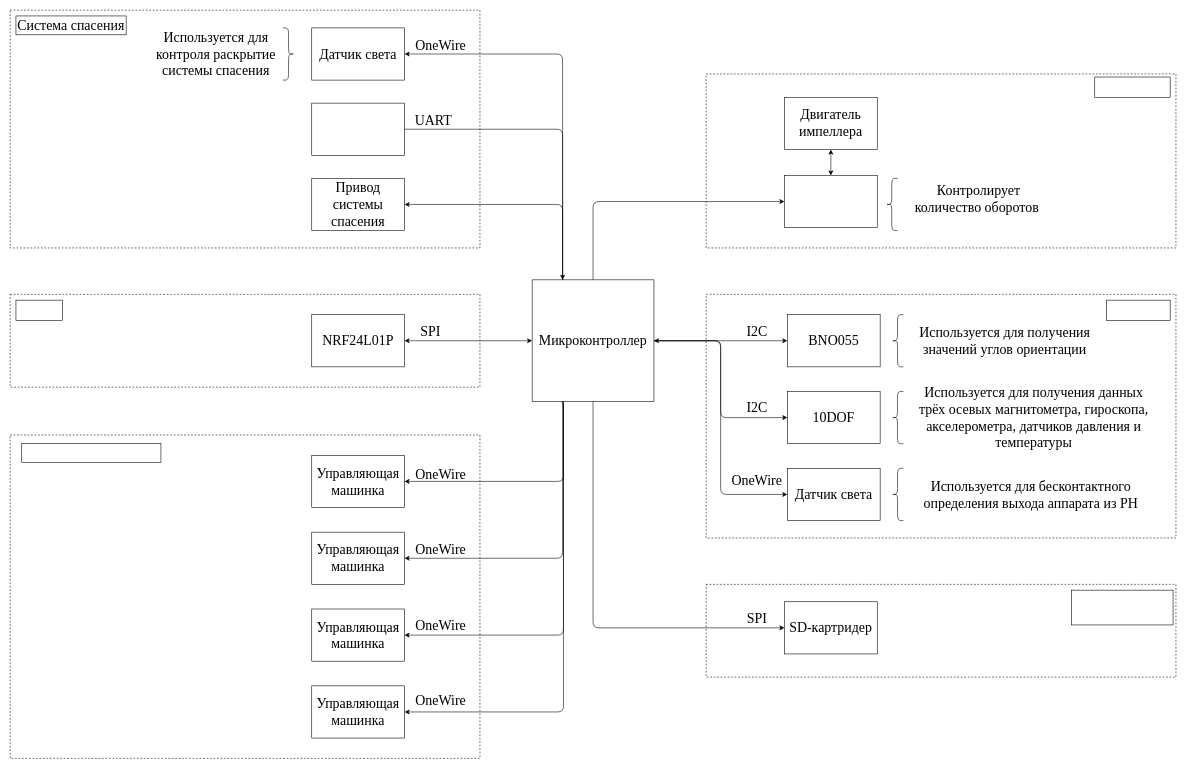
Some shapes in this 1186 by 769 pixel diagram are drawn without their labels. Here are the shapes that lost their labels. From the top down, the centre of each, then its label:
(1132,86): Импеллер
(358,129): GPS
(830,201): ESC
(38,310): Радио
(1138,310): Датчики
(91,453): Система управления
(1122,607): Запоминающее усройство
